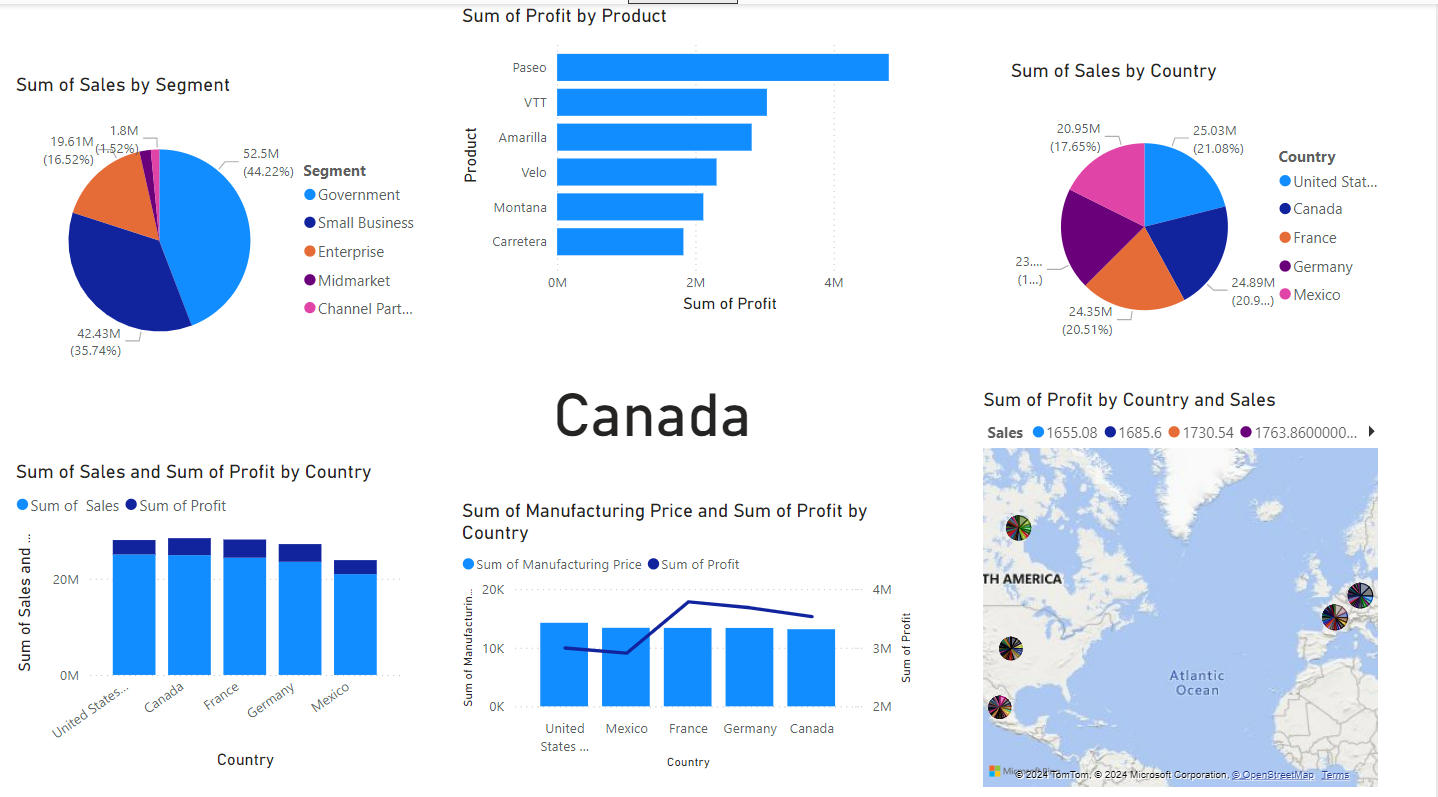

What the dashboard file says about the page in this screenshot:
{"tool":"powerbi","page":{"name":"Page 1","canvas":[1280,720],"ordinal":0},"visuals":[{"type":"pieChart","fields":{"Category":["financials.Segment"],"Y":["Sum(financials. Sales)"]},"box":[9.6,61.7,376,279.9],"z":0},{"type":"columnChart","fields":{"Y":["Sum(financials. Sales)","Sum(financials.Profit)"],"Category":["financials.Country"]},"box":[9.6,406.2,352.7,279.9],"z":1000},{"type":"lineClusteredColumnComboChart","fields":{"Category":["financials.Country"],"Y2":["Sum(financials.Profit)"],"Y":["Sum(financials.Manufacturing Price)"]},"box":[407.5,440.5,411.7,245.6],"z":2000},{"type":"barChart","fields":{"Category":["financials.Product"],"Y":["Sum(financials.Profit)"]},"box":[407.5,0,411.7,279.9],"z":3000},{"type":"map","fields":{"Category":["financials.Country"],"Series":["financials. Sales"],"Size":["Sum(financials.Profit)"]},"box":[871.4,341.7,360.9,360.9],"z":4000},{"type":"pieChart","fields":{"Category":["financials.Country"],"Y":["Sum(financials. Sales)"]},"box":[896.1,49.4,351.3,279.9],"z":5000},{"type":"card","fields":{"Values":["Min(financials.Country)"]},"box":[407.5,311.5,349.9,94.7],"z":6000}]}

Visuals, with their boxes in screenshot pixels (x1, y1, x2, y2), scaled from the page's 1280x720 canvas onto the 1438x797 screenshot:
pieChart - financials.Segment x Sum(financials. Sales): [left=11, top=68, right=433, bottom=378]
columnChart - Sum(financials. Sales) x Sum(financials.Profit): [left=11, top=450, right=407, bottom=759]
lineClusteredColumnComboChart - financials.Country x Sum(financials.Profit): [left=458, top=488, right=920, bottom=759]
barChart - financials.Product x Sum(financials.Profit): [left=458, top=0, right=920, bottom=310]
map - financials.Country x financials. Sales: [left=979, top=378, right=1384, bottom=778]
pieChart - financials.Country x Sum(financials. Sales): [left=1007, top=55, right=1401, bottom=365]
card - Min(financials.Country): [left=458, top=345, right=851, bottom=450]
